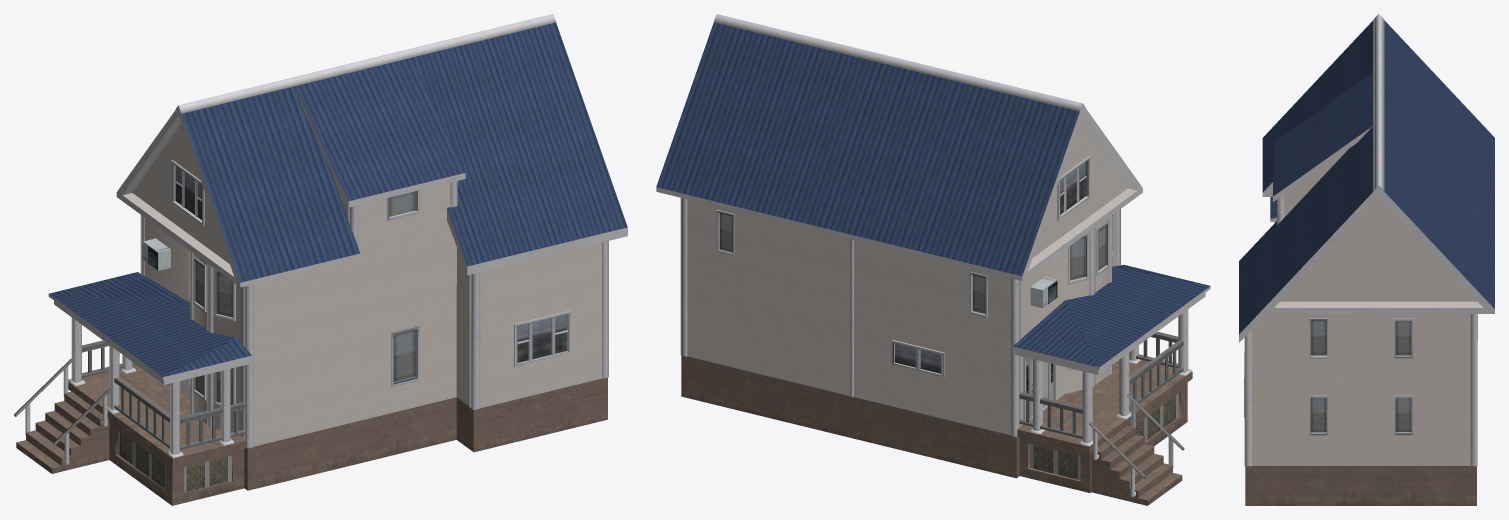
Rendered from WoodenHouse.fbx.
The picture shows the model from 3 angles, left to right: view 1: azimuth 30°, elevation 25°; view 2: azimuth 150°, elevation 25°; view 3: azimuth 270°, elevation 25°; orthographic projection. The views are drawn at different scales.
Visible parts, largest first — view 1: WoodenHouse; view 2: WoodenHouse; view 3: WoodenHouse.
Part boxes in pixels (x1,y1,x2,y2): WoodenHouse: [14, 14, 627, 505]; WoodenHouse: [656, 14, 1210, 505]; WoodenHouse: [1239, 14, 1494, 505].
Size of the model in its own units: 250 by 171 by 121.
